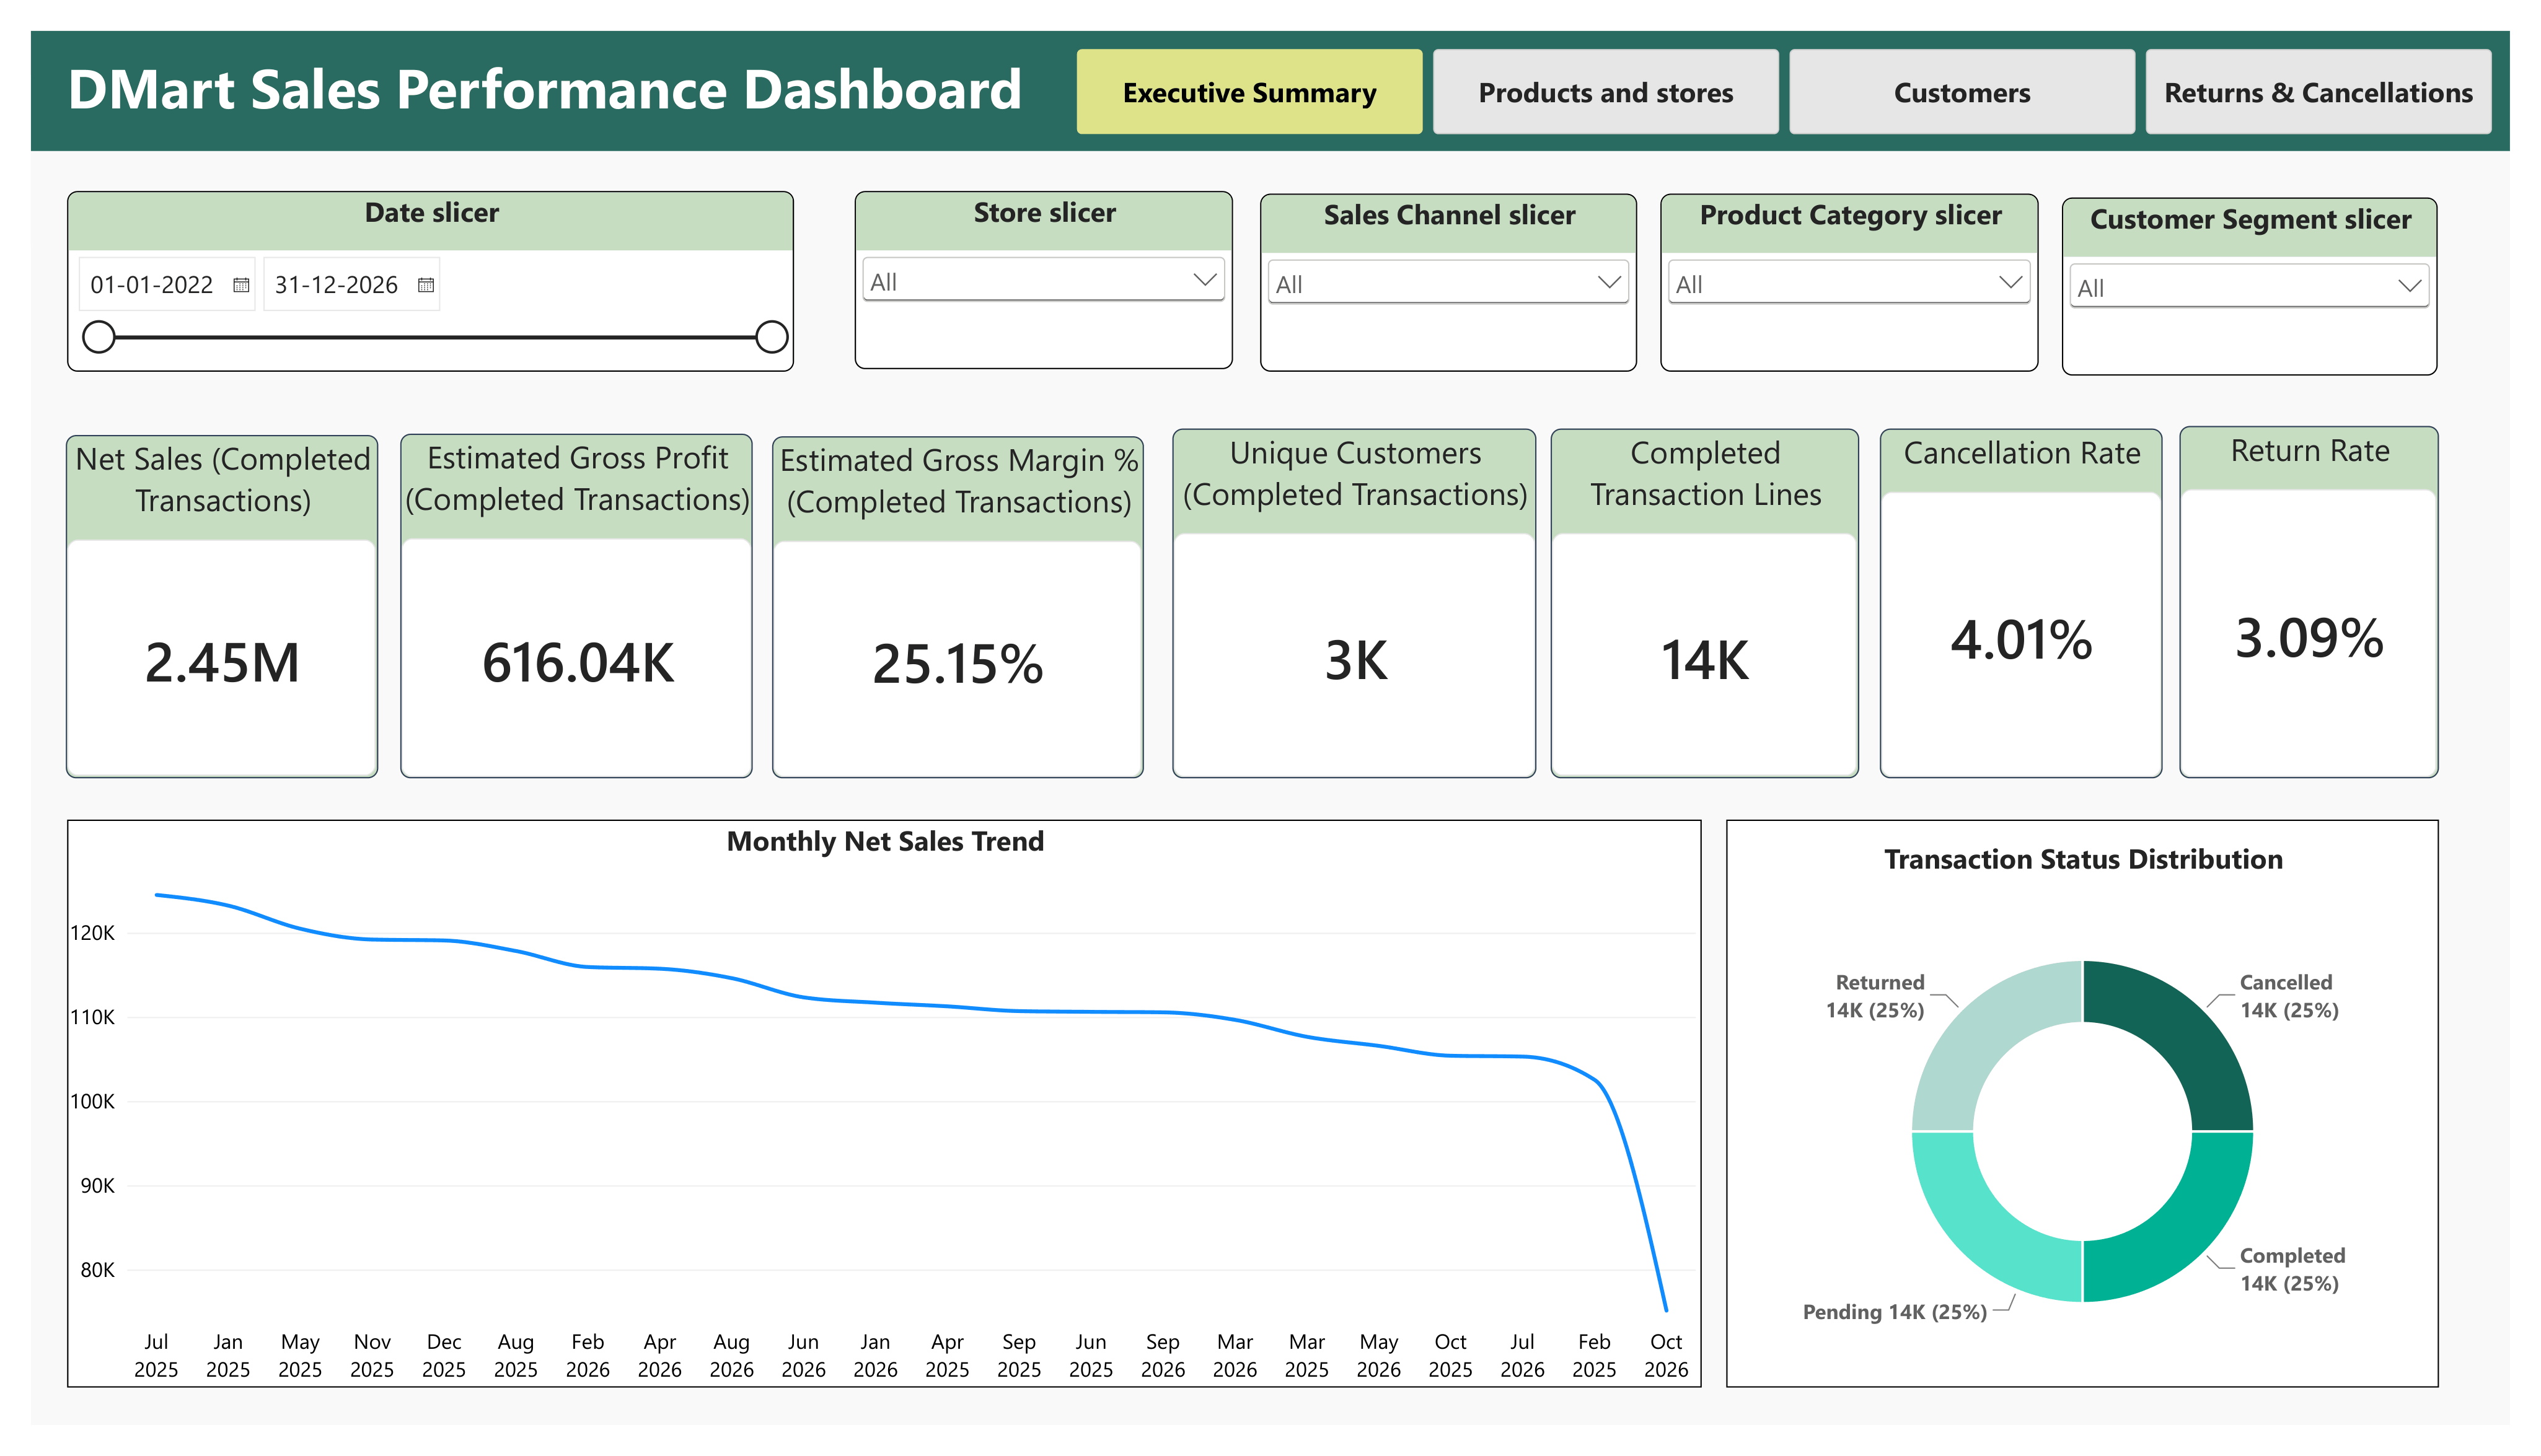

The page's visual inventory and layout, read from the dashboard file:
{"tool":"powerbi","page":{"name":"Executive Summary","canvas":[1920,1080],"ordinal":0},"visuals":[{"type":"cardVisual","title":"Net Sales (Completed Transactions)","fields":{"Data":["Measures_Created.Net_Sales"]},"box":[27.1,313.5,241.6,265.4],"z":0},{"type":"cardVisual","title":"Estimated Gross Profit (Completed Transactions)","fields":{"Data":["Measures_Created.Estimated_Gross_Profit"]},"box":[286,312,273,267.4],"z":1000},{"type":"cardVisual","title":"Estimated Gross Margin % (Completed Transactions)","fields":{"Data":["Measures_Created.Estimated_Gross_Margin %"]},"box":[573.9,313.9,287.9,265.6],"z":2000},{"type":"lineChart","title":"Monthly Net Sales Trend","fields":{"Category":["Calendar_Table.Month-Year"],"Y":["Measures_Created.Net_Sales"]},"box":[27.9,611,1266.6,440.2],"z":3000},{"type":"slicer","title":"Date slicer","fields":{"Values":["Calendar_Table.Date"]},"box":[27.9,124.4,562.7,139.3],"z":4000},{"type":"slicer","title":"Store slicer","fields":{"Values":["transactions_clean.Store_ID"]},"box":[638.3,124.2,292.2,137.9],"z":5000},{"type":"shape","box":[0,0,1920.4,92.8],"z":6000},{"type":"slicer","title":"Sales Channel slicer","fields":{"Values":["transactions_clean.Sales_Channel"]},"box":[952.2,126,292.2,137.9],"z":7000},{"type":"slicer","title":"Product Category slicer","fields":{"Values":["products_clean.Category"]},"box":[1262.4,126,292.2,137.9],"z":8000},{"type":"slicer","title":"Customer Segment slicer","fields":{"Values":["customers_clean.Customer_Segment"]},"box":[1573.1,128.7,290.4,137.9],"z":9000},{"type":"pageNavigator","box":[810,14,1096,66],"z":11000},{"type":"cardVisual","title":"Unique Customers (Completed Transactions)","fields":{"Data":["Measures_Created.Unique_Customers"]},"box":[884,308.3,282.3,271.2],"z":12000},{"type":"cardVisual","title":"Completed Transaction Lines","fields":{"Data":["Measures_Created.Transaction_Lines"]},"box":[1177.5,308.3,238.5,270.9],"z":13000},{"type":"cardVisual","title":"Cancellation Rate","fields":{"Data":["Measures_Created.Cancellation_Rate"]},"box":[1431.9,308.3,219.2,271.2],"z":14000},{"type":"cardVisual","title":"Return Rate","fields":{"Data":["Measures_Created.Return_Rate"]},"box":[1664.1,306.4,200.6,273],"z":15000},{"type":"donutChart","title":"Transaction Status Distribution","fields":{"Category":["transactions_clean.Transaction_Status"],"Y":["Measures_Created.Transaction_Lines"]},"box":[1313.1,611,551.6,440.2],"z":16000},{"type":"textbox","box":[28,14,782,78],"z":16001}]}

Visuals, with their boxes on the page's 1920x1080 design canvas (x1, y1, x2, y2). These are canvas units, not pixel positions in the 2541x1456 screenshot, which may show the page scaled, cropped or inside an application window:
"Net Sales (Completed Transactions)" cardVisual: (27, 314, 269, 579)
"Estimated Gross Profit (Completed Transactions)" cardVisual: (286, 312, 559, 579)
"Estimated Gross Margin % (Completed Transactions)" cardVisual: (574, 314, 862, 580)
"Monthly Net Sales Trend" lineChart: (28, 611, 1294, 1051)
"Date slicer" slicer: (28, 124, 591, 264)
"Store slicer" slicer: (638, 124, 930, 262)
shape: (0, 0, 1920, 93)
"Sales Channel slicer" slicer: (952, 126, 1244, 264)
"Product Category slicer" slicer: (1262, 126, 1555, 264)
"Customer Segment slicer" slicer: (1573, 129, 1864, 267)
pageNavigator: (810, 14, 1906, 80)
"Unique Customers (Completed Transactions)" cardVisual: (884, 308, 1166, 580)
"Completed Transaction Lines" cardVisual: (1178, 308, 1416, 579)
"Cancellation Rate" cardVisual: (1432, 308, 1651, 580)
"Return Rate" cardVisual: (1664, 306, 1865, 579)
"Transaction Status Distribution" donutChart: (1313, 611, 1865, 1051)
textbox: (28, 14, 810, 92)
